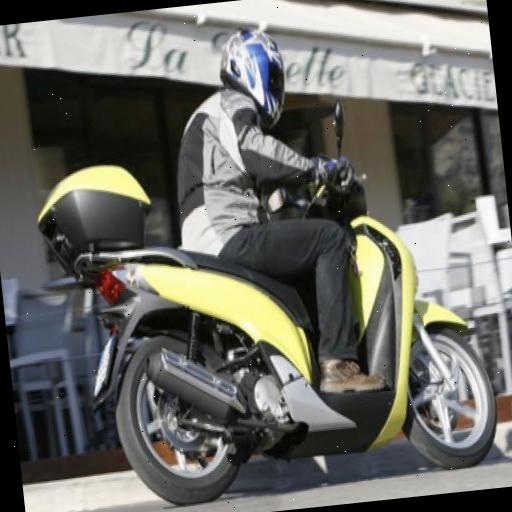helmet: (210, 12, 303, 145)
